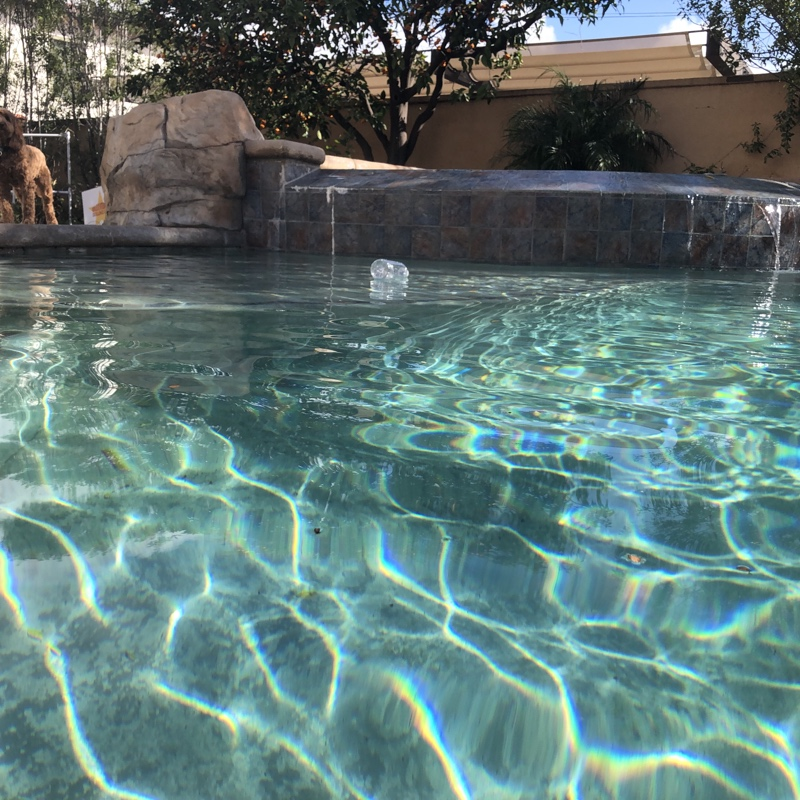Plastic Bottle: (369, 257, 411, 289)
